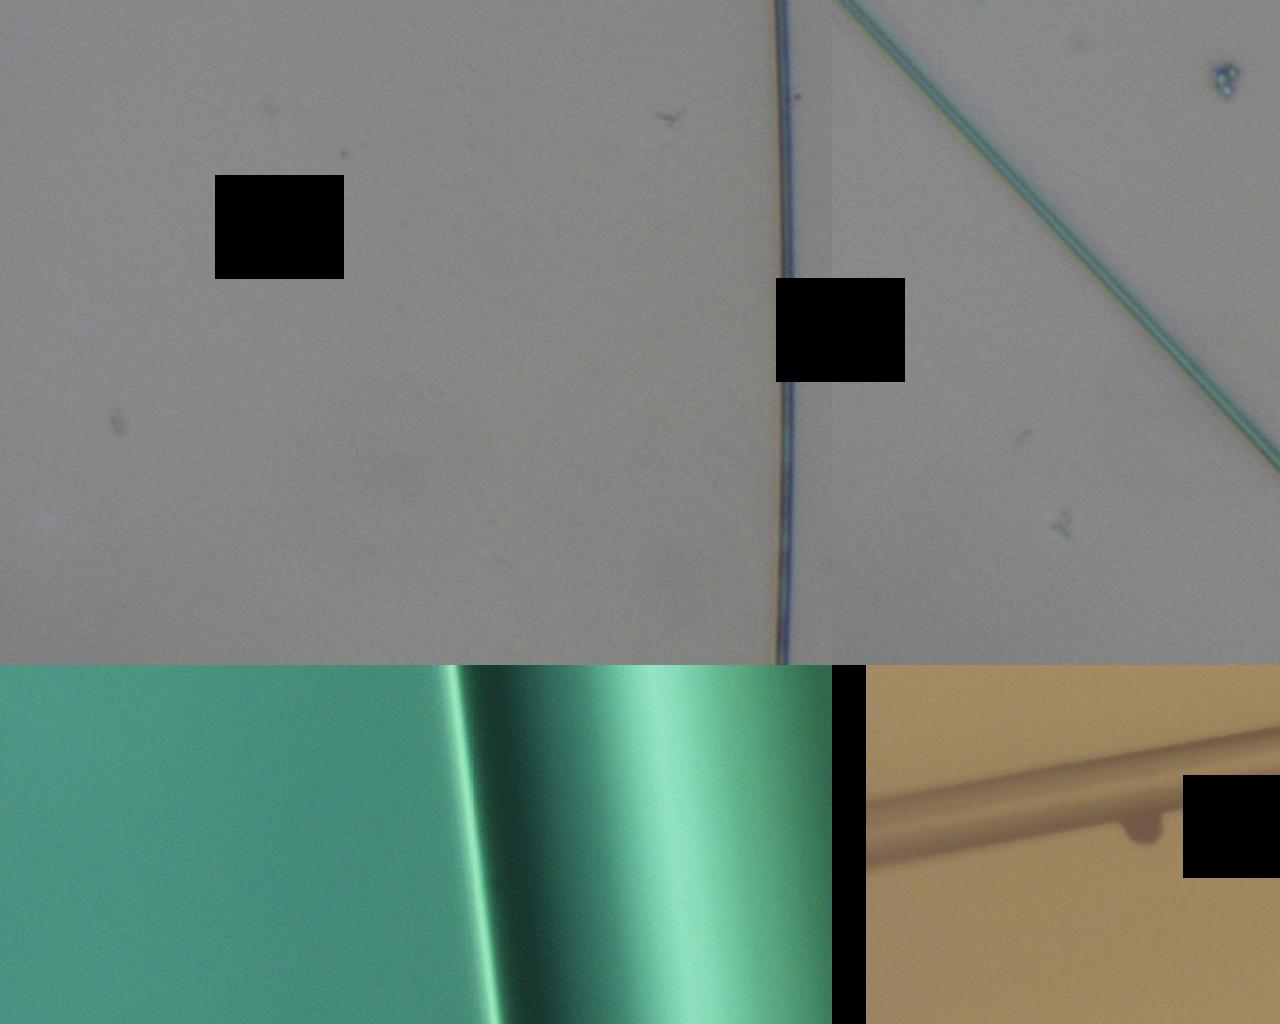fiber: (199, 923, 732, 1024), (857, 432, 1280, 454)
